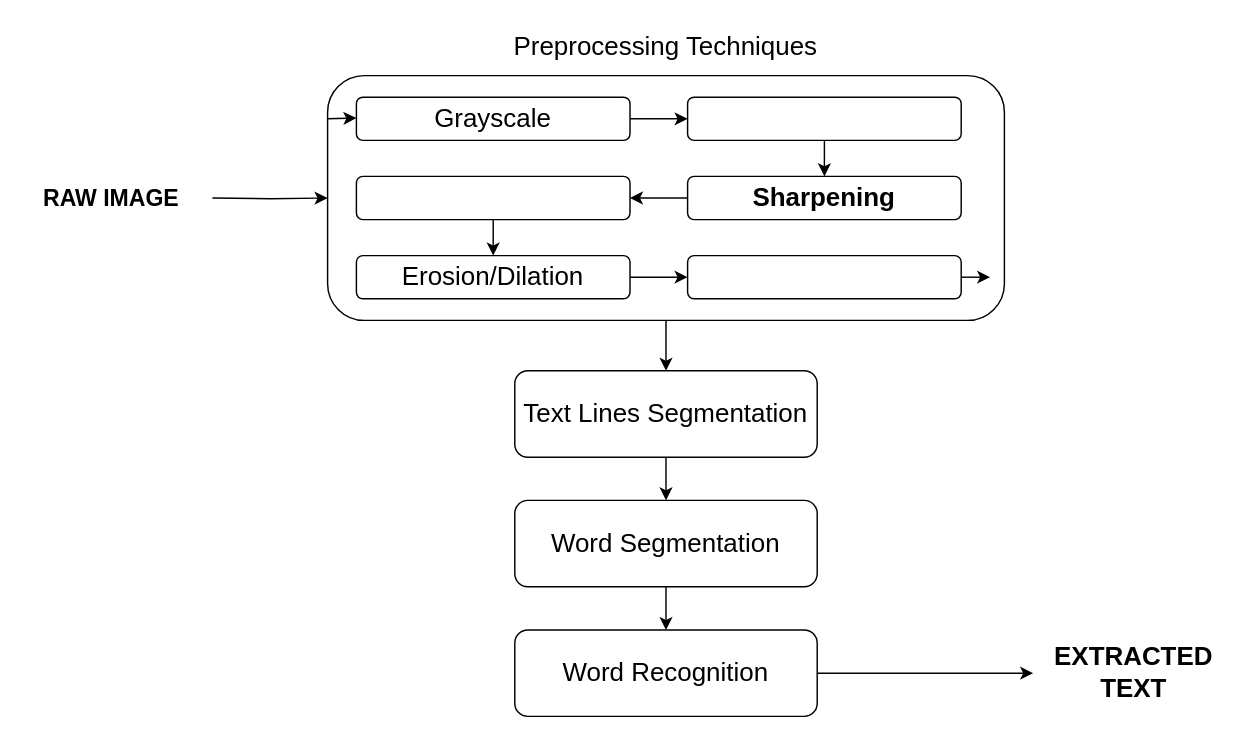
The diagram is 1259 pixels wide and 742 high, and some of its shapes have lost their labels. Each missing label, with the box of its shape:
Deskew: (686, 254, 961, 299)
Gaussian Adaptative Treshold: (355, 175, 630, 220)
Gaussian Blur: (686, 96, 961, 140)
